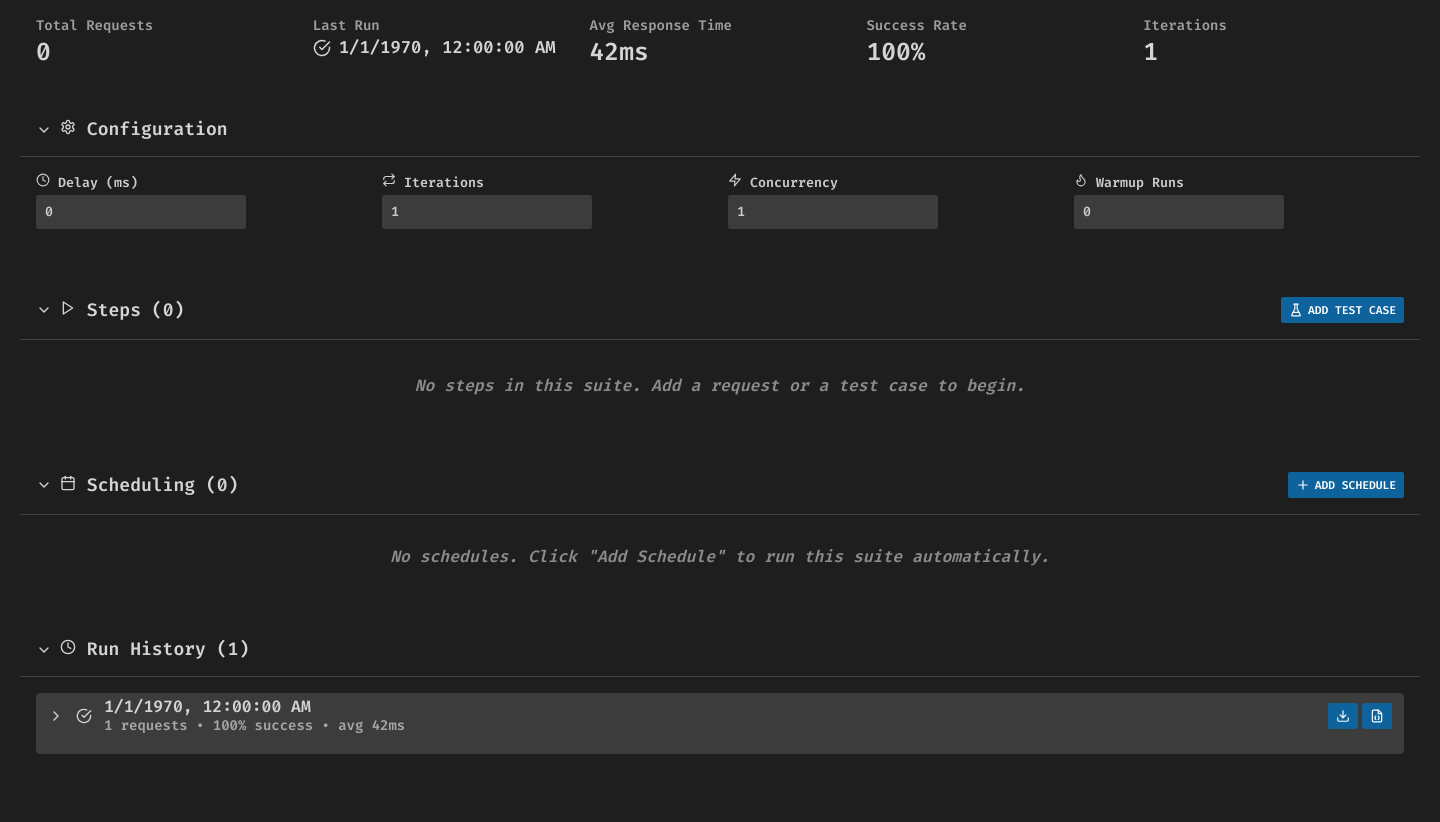
Test case: PerformanceSuiteEditor test-case steps › groups result rows under the case step they came from
(page scrolled)
# Runs start collapsed — expand the run to see its result rows.
Click the text "1 requests • 100% success • avg 42ms".
click(255, 726)  # box [104, 717, 405, 734]
(page scrolled)
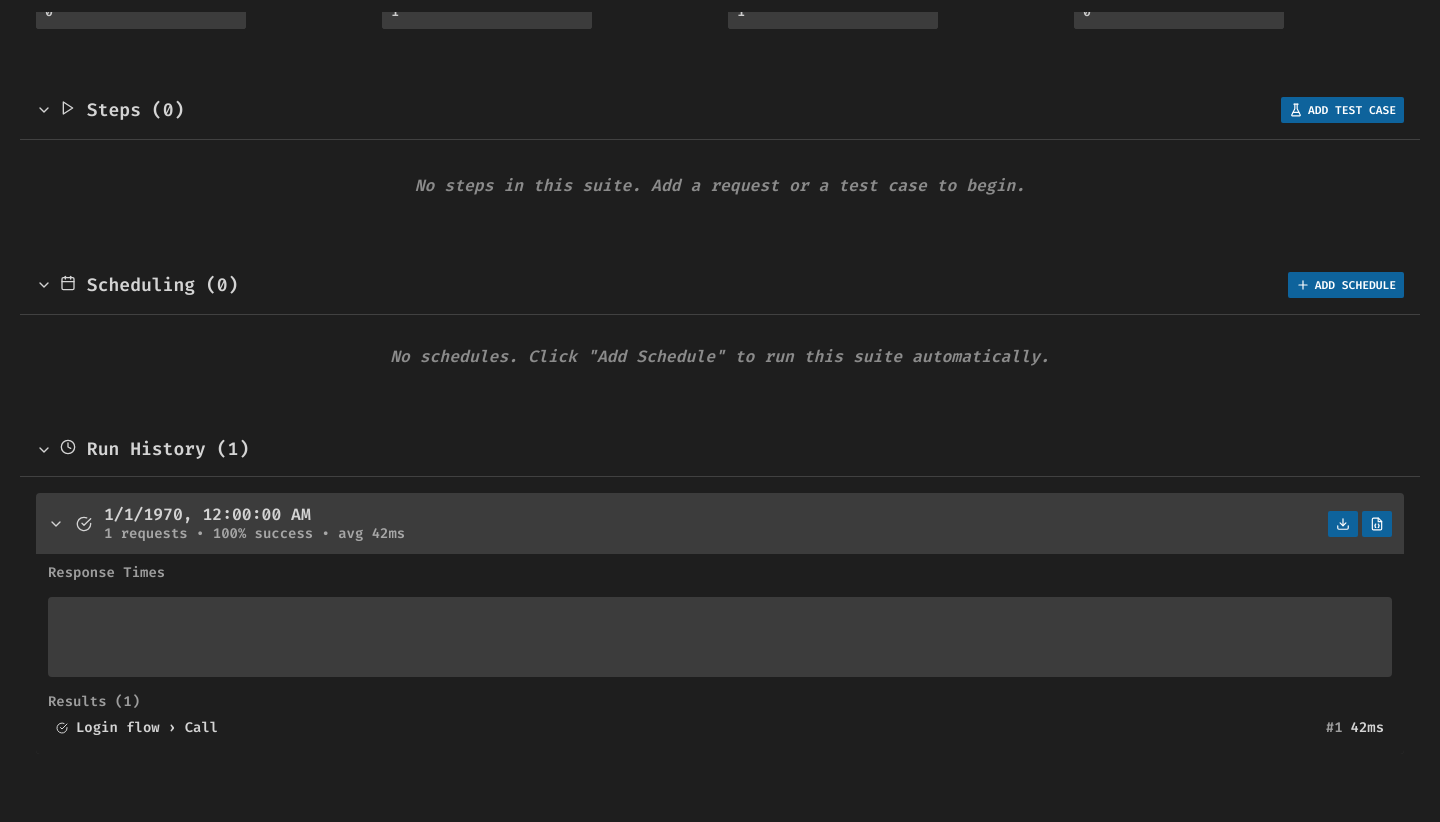
Result: the text "Login flow › Call" is shown at [76, 719, 218, 736]
